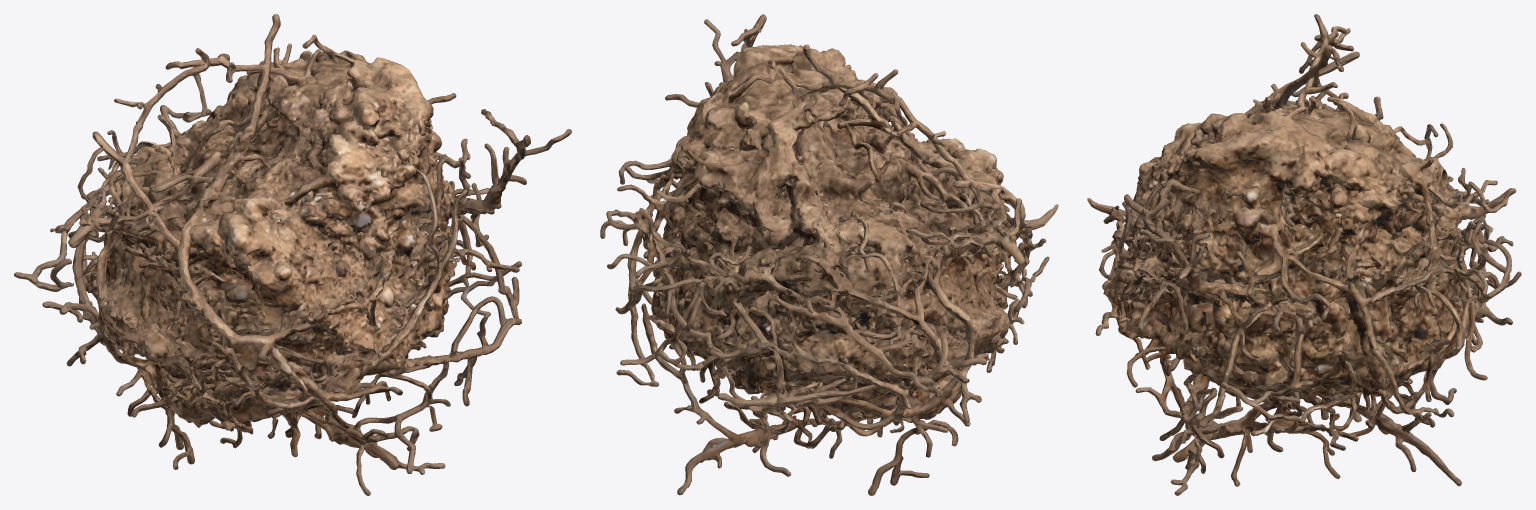
The model's file is root-soil-clod-v12.glb.
3 views of the same model, side by side, from view 1: azimuth 30°, elevation 25°; view 2: azimuth 150°, elevation 25°; view 3: azimuth 270°, elevation 25° (orthographic). The views are drawn at different scales.
Parts seen in each view (by area): view 1: geometry_0; view 2: geometry_0; view 3: geometry_0.
Part boxes in pixels (x1,y1,x2,y2): geometry_0: (14,14,571,495); geometry_0: (600,14,1058,495); geometry_0: (1087,14,1521,495).
Size of the model in its own units: 0.35 by 0.3456 by 0.3275.
Materials: 1 (1 with a texture image).
